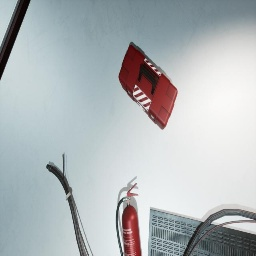FireExtinguisher ]: (116, 183, 141, 256)
FirstAidBox ,: (118, 45, 178, 130)
